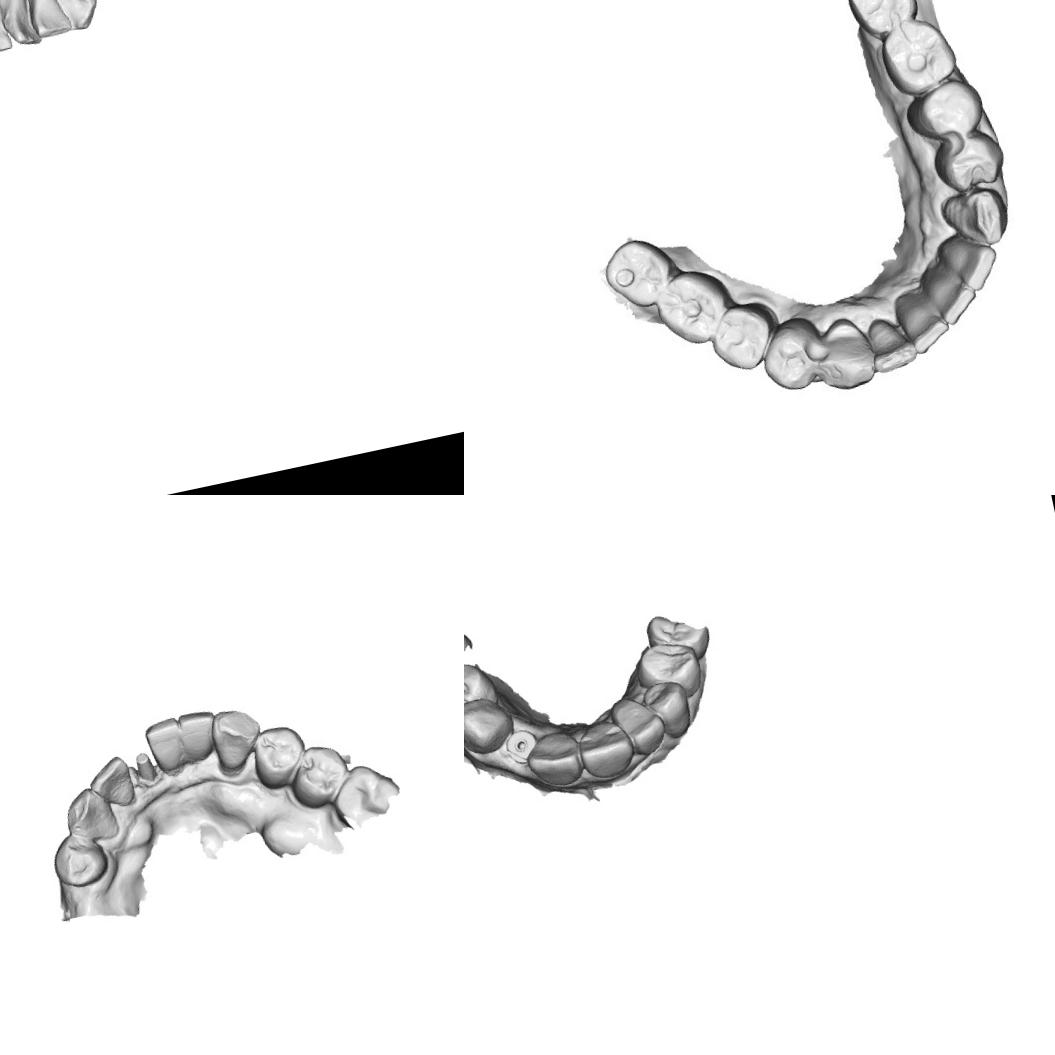abutment: (127, 747, 160, 787)
canine: (927, 173, 1025, 257), (813, 318, 877, 392), (206, 703, 269, 775), (60, 781, 122, 848), (639, 676, 696, 743), (464, 692, 517, 760), (59, 0, 103, 33)
implant: (502, 725, 541, 768)
incisor: (608, 690, 673, 762), (574, 715, 639, 782), (522, 726, 586, 794), (864, 310, 924, 378), (940, 227, 999, 296), (922, 262, 980, 324), (81, 751, 138, 814), (893, 290, 948, 350), (138, 712, 190, 775), (174, 702, 218, 759), (19, 0, 73, 40), (0, 0, 43, 50), (0, 12, 14, 57)
molar: (648, 260, 736, 352), (871, 12, 958, 100), (596, 234, 676, 320), (328, 756, 406, 828), (838, 0, 916, 38)
premolar: (746, 311, 834, 398), (699, 291, 787, 376), (630, 635, 708, 707), (283, 739, 357, 814), (246, 718, 314, 793), (918, 78, 988, 141), (47, 828, 112, 892), (642, 604, 713, 661), (941, 130, 1008, 190), (464, 663, 496, 721)
